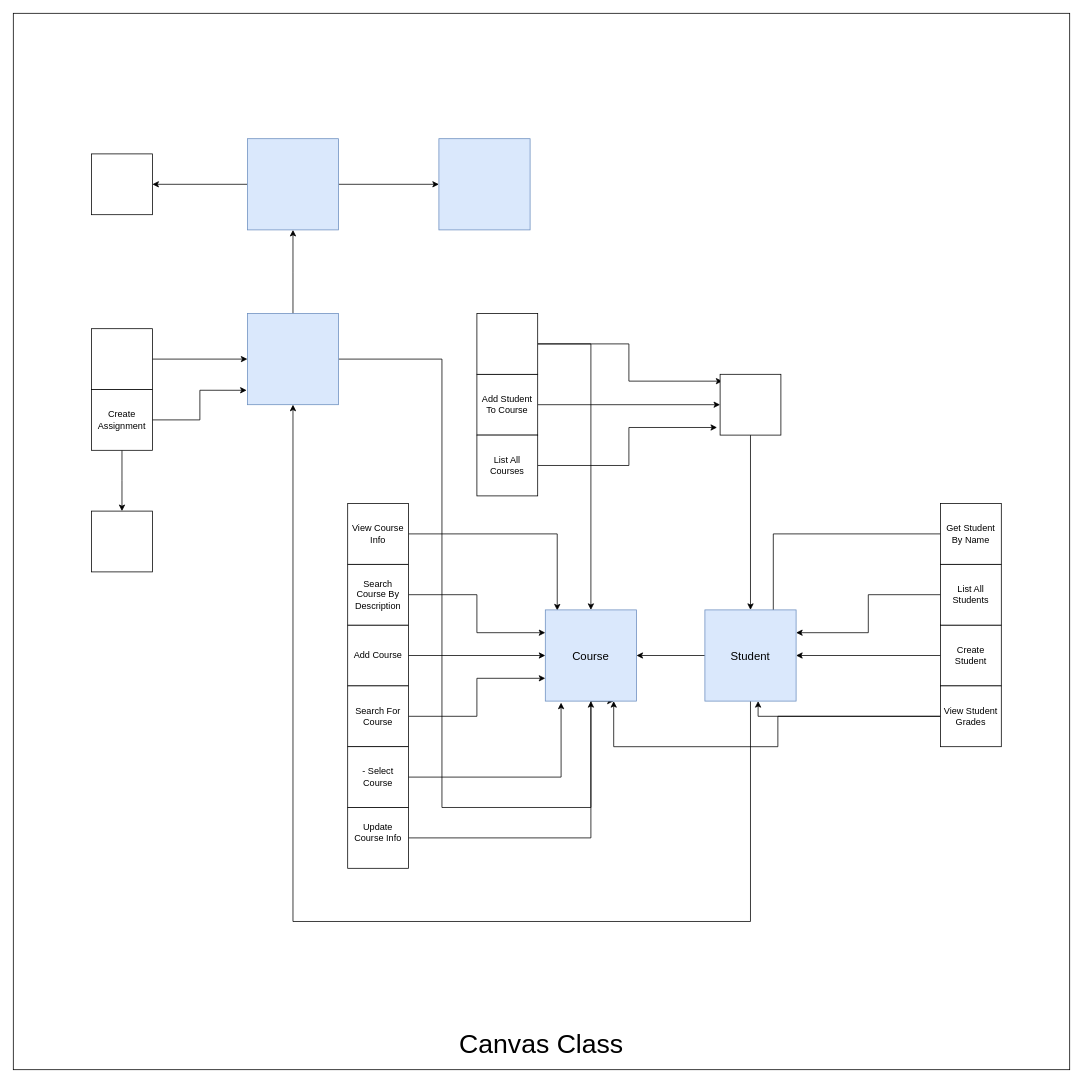
This 1083x1083 diagram has some shape labels left out. Here are the shapes that lost their labels. From the top down, the box of each, then its label:
(91, 153, 152, 215): - Set Letter Grade
(247, 138, 339, 230): Grade
(438, 138, 530, 230): Date
(91, 328, 152, 390): Set Assignment Grade
(247, 313, 339, 405): Assignment
(476, 313, 538, 374): Remove Student From Course
(719, 374, 781, 435): Get Student (Getter by list)
(91, 510, 152, 572): - Assignment Prompt
